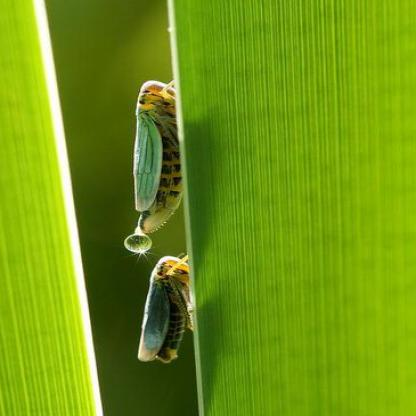Green-Leafhopper: (126, 76, 204, 244), (127, 252, 205, 367)
